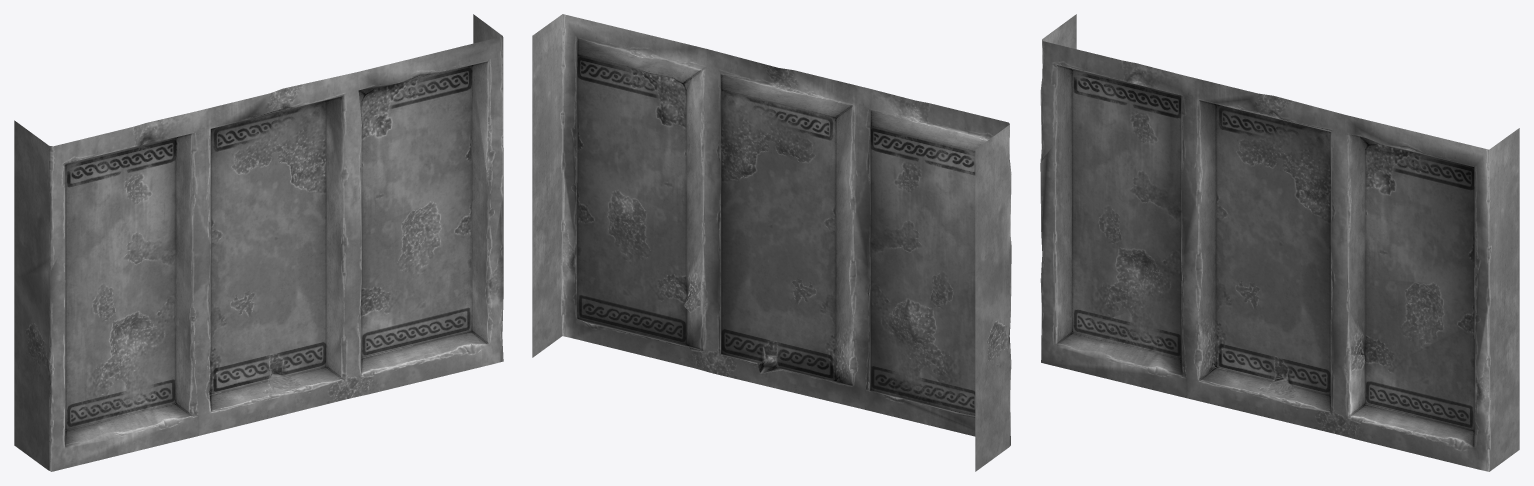
The model's file is SM_TempleTrimMid_Tall.fbx.
3 views of the same model, side by side, from view 1: azimuth 30°, elevation 25°; view 2: azimuth 150°, elevation 25°; view 3: azimuth 330°, elevation 25° (orthographic).
Visible parts, largest first — view 1: SM_TempleTrimMid_Tall; view 2: SM_TempleTrimMid_Tall; view 3: SM_TempleTrimMid_Tall.
Part boxes in pixels (bbox=[...]): SM_TempleTrimMid_Tall: bbox=[14, 14, 503, 471]; SM_TempleTrimMid_Tall: bbox=[532, 14, 1011, 471]; SM_TempleTrimMid_Tall: bbox=[1040, 14, 1519, 471].
Size of the model in its own units: 444 by 305 by 62.1.
Materials: 1 (1 with a texture image).
